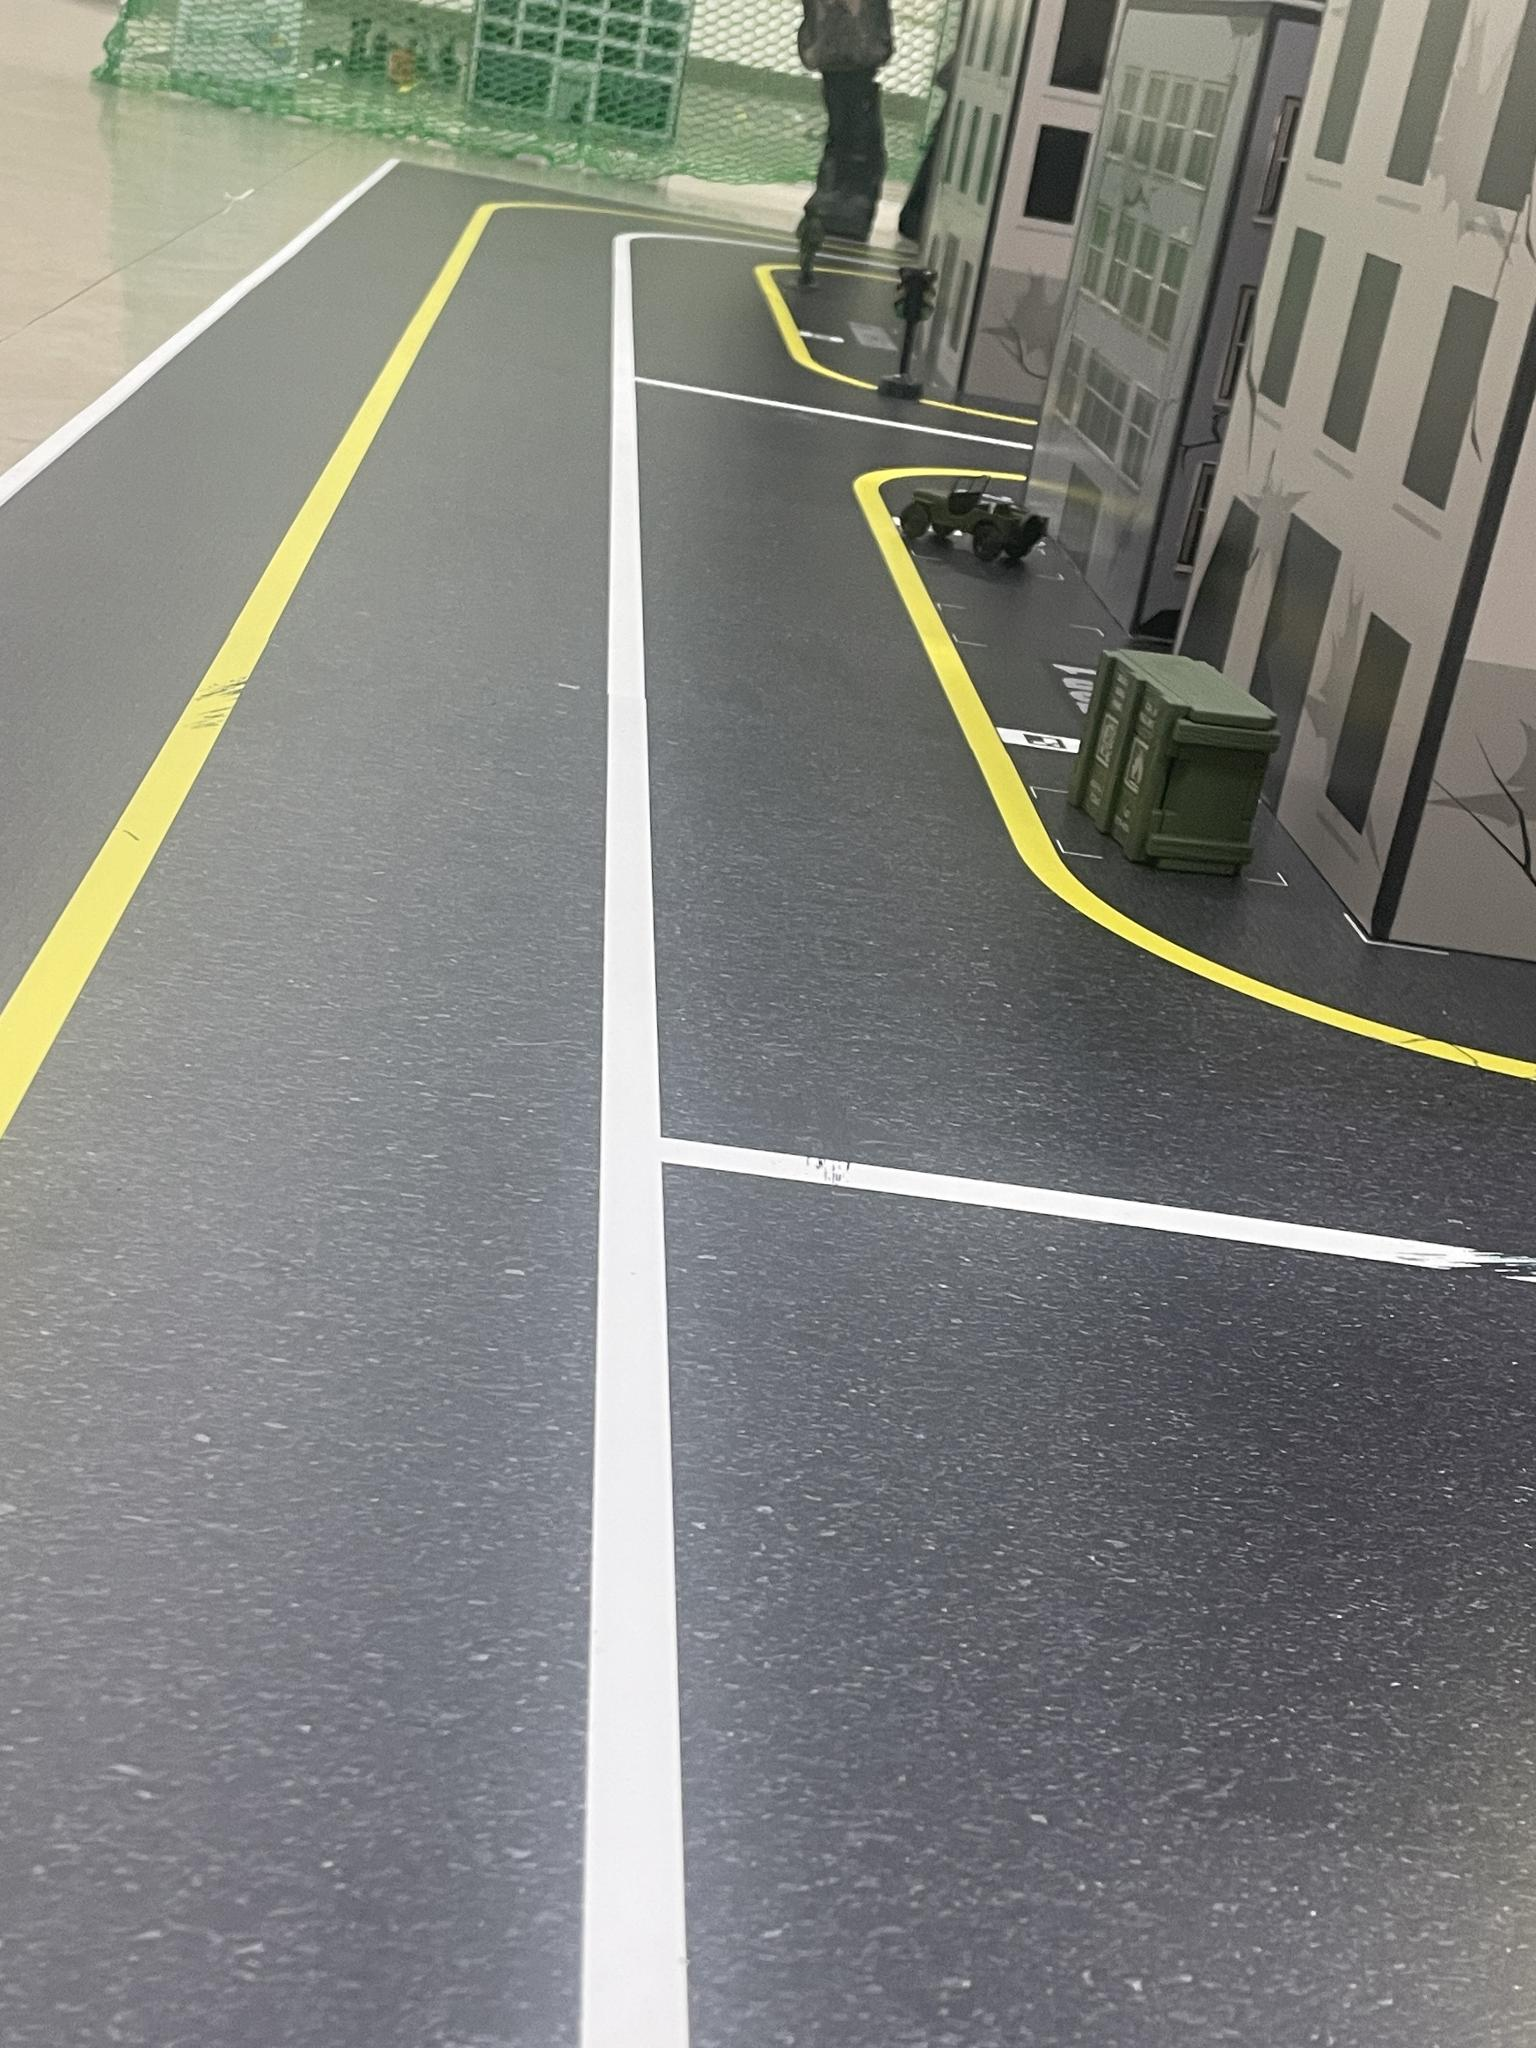Box: (1058, 635, 1291, 892)
Car: (902, 463, 1054, 577)
Enemy: (800, 200, 826, 282)
